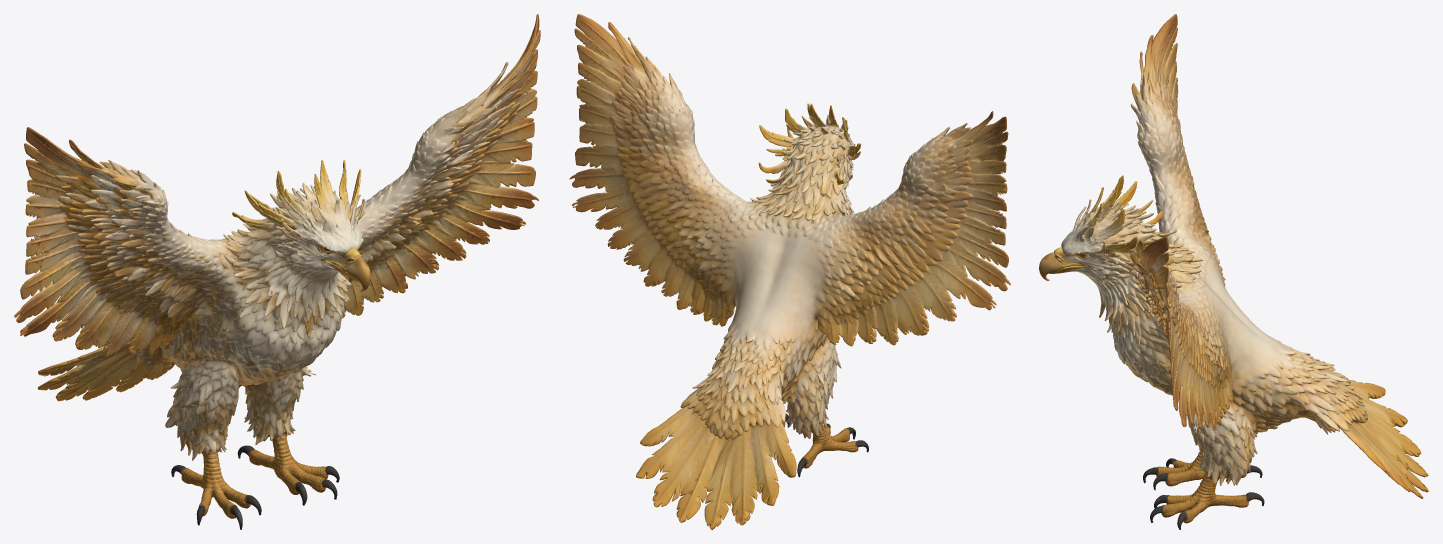
Rendered from solara.glb.
3 views of the same model, side by side, from view 1: azimuth 30°, elevation 25°; view 2: azimuth 150°, elevation 25°; view 3: azimuth 270°, elevation 25° (orthographic). The views are drawn at different scales.
Parts seen in each view (by area): view 1: tripo_node_7e1ce8d6-6ff0-470a-a455-21fff83c3dd1; view 2: tripo_node_7e1ce8d6-6ff0-470a-a455-21fff83c3dd1; view 3: tripo_node_7e1ce8d6-6ff0-470a-a455-21fff83c3dd1.
Boxes of the visible parts, x1,y1,x2,y2 form: tripo_node_7e1ce8d6-6ff0-470a-a455-21fff83c3dd1: (14,14,540,529); tripo_node_7e1ce8d6-6ff0-470a-a455-21fff83c3dd1: (569,14,1010,529); tripo_node_7e1ce8d6-6ff0-470a-a455-21fff83c3dd1: (1039,14,1428,529).
Bounding box in the file's own units: 0.9861 × 0.7924 × 0.7267.
Materials: 1 (1 with a texture image).
